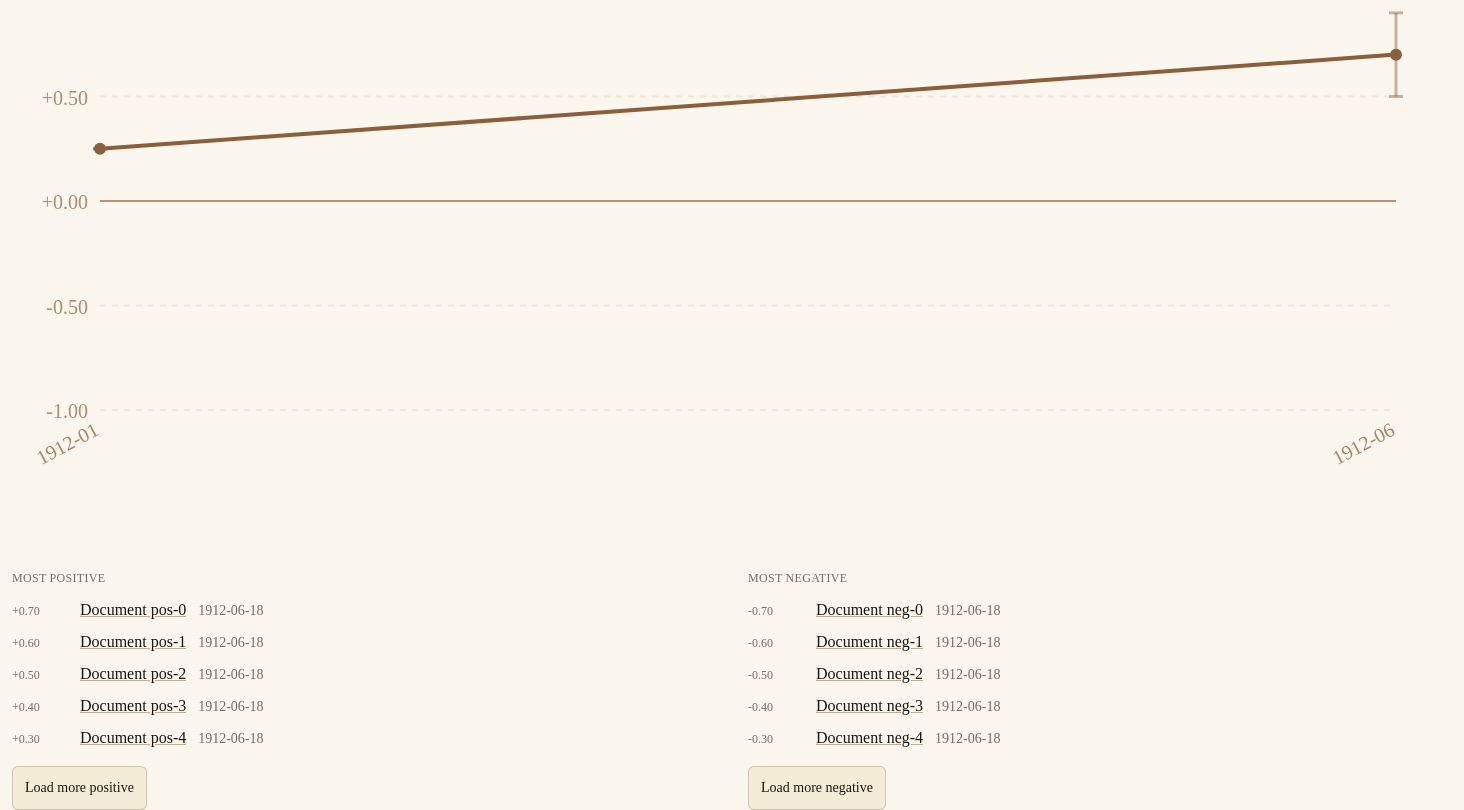
Scenario: SentimentPage graph node filtering › loads more positive and negative extremes independently
(page scrolled)
Step 1. Click the button "Load more positive" → {"x": 79, "y": 788}, box [12,766,147,809]
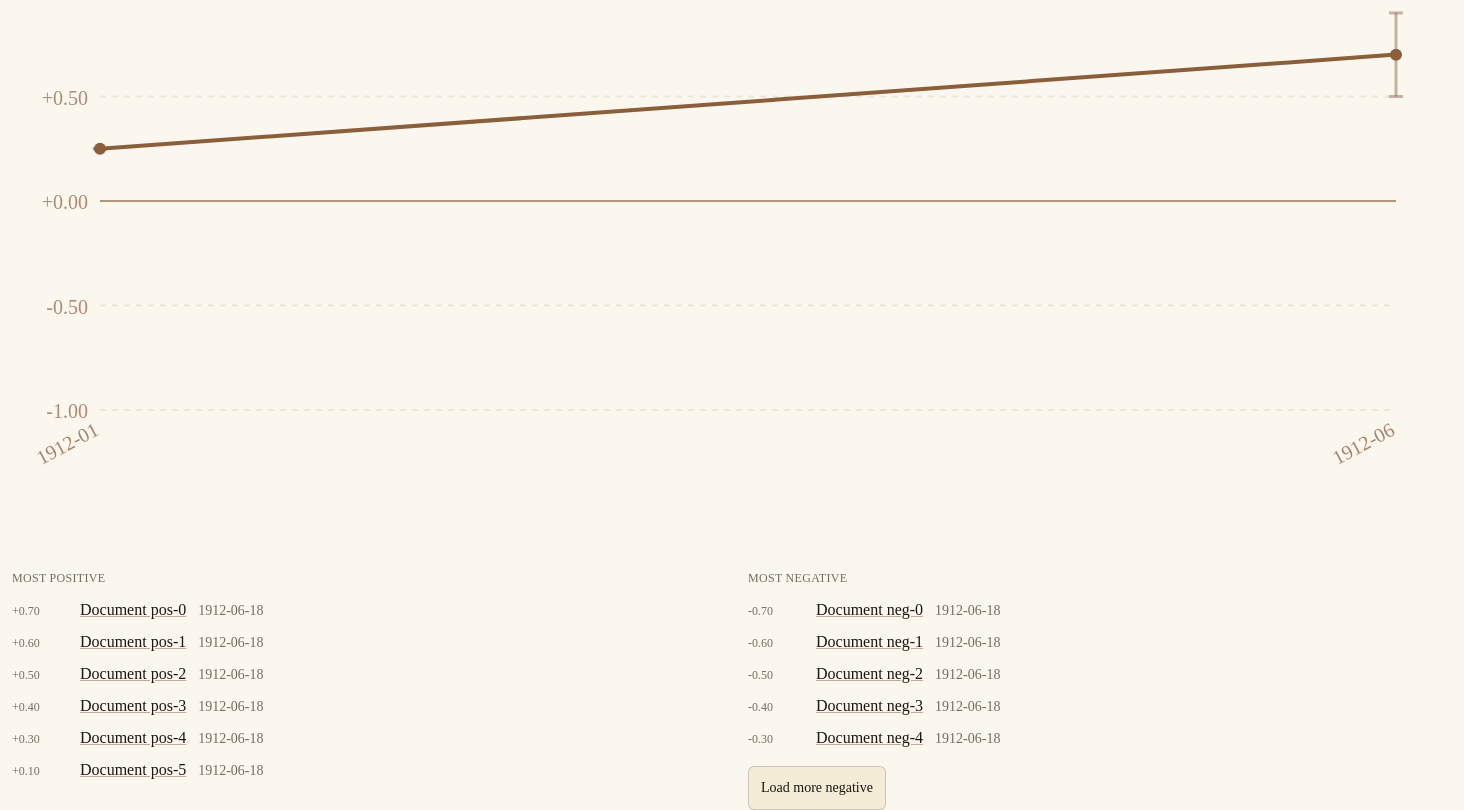
Expected: the link "Document pos-5" is shown, [80,758,186,782]
Step 2. Click the button "Load more negative" → {"x": 817, "y": 788}, box [748,766,886,809]
(page scrolled)
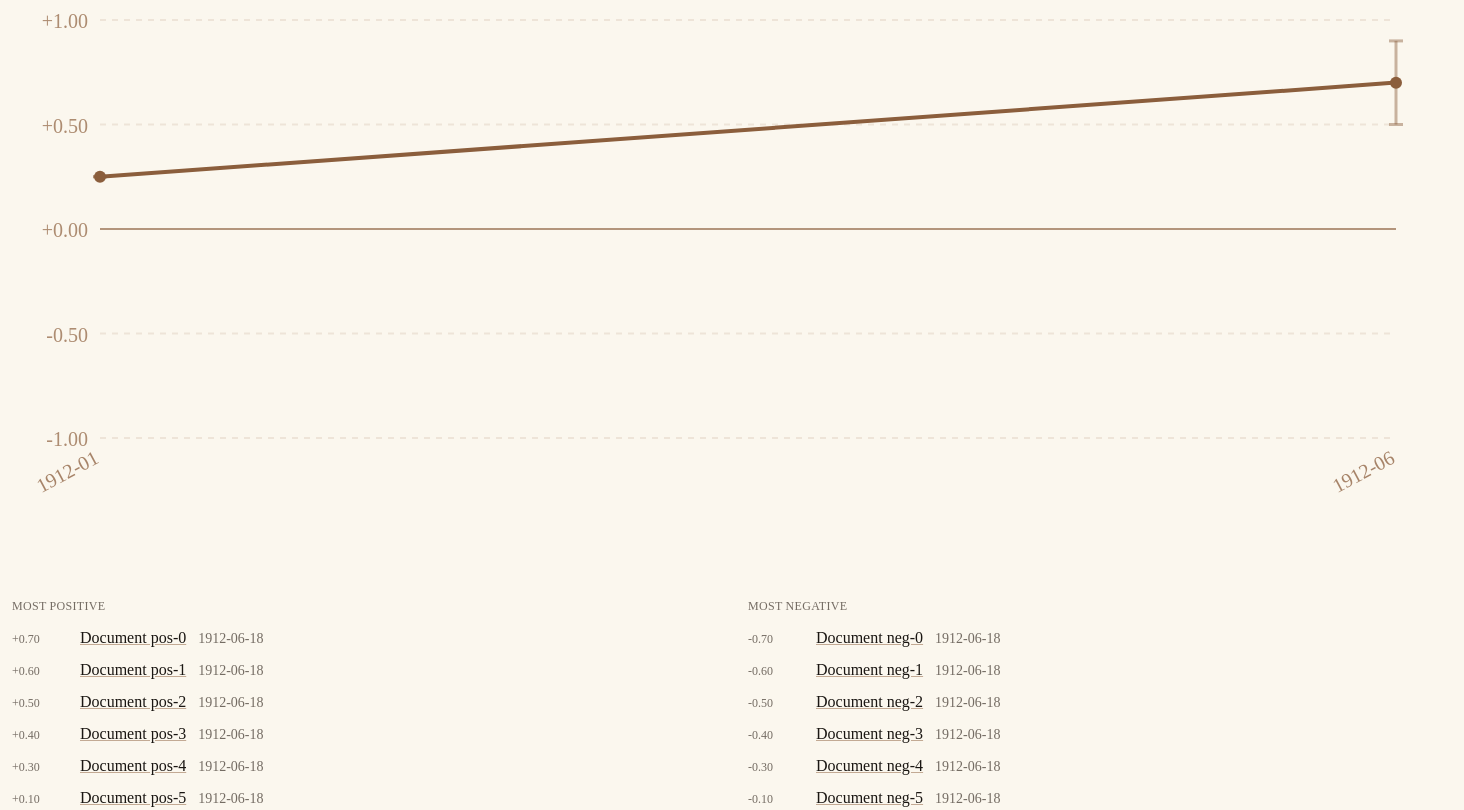
Expected: the link "Document neg-5" is shown, [816,786,923,809]
